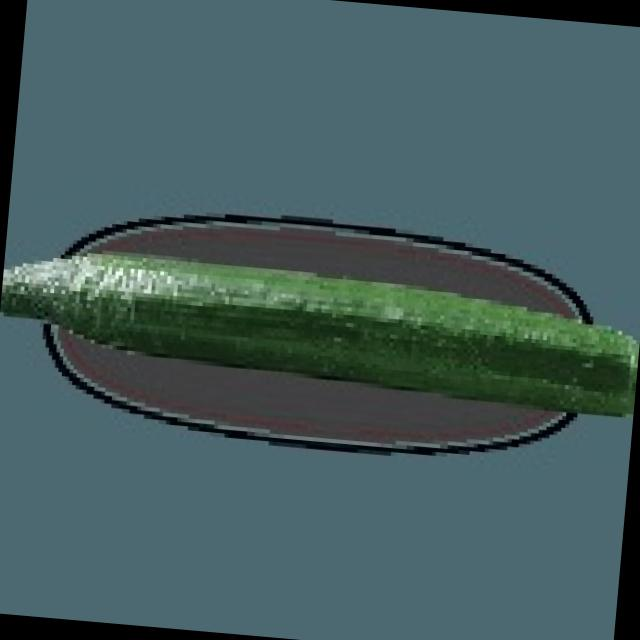cucumber: (0, 241, 640, 429)
